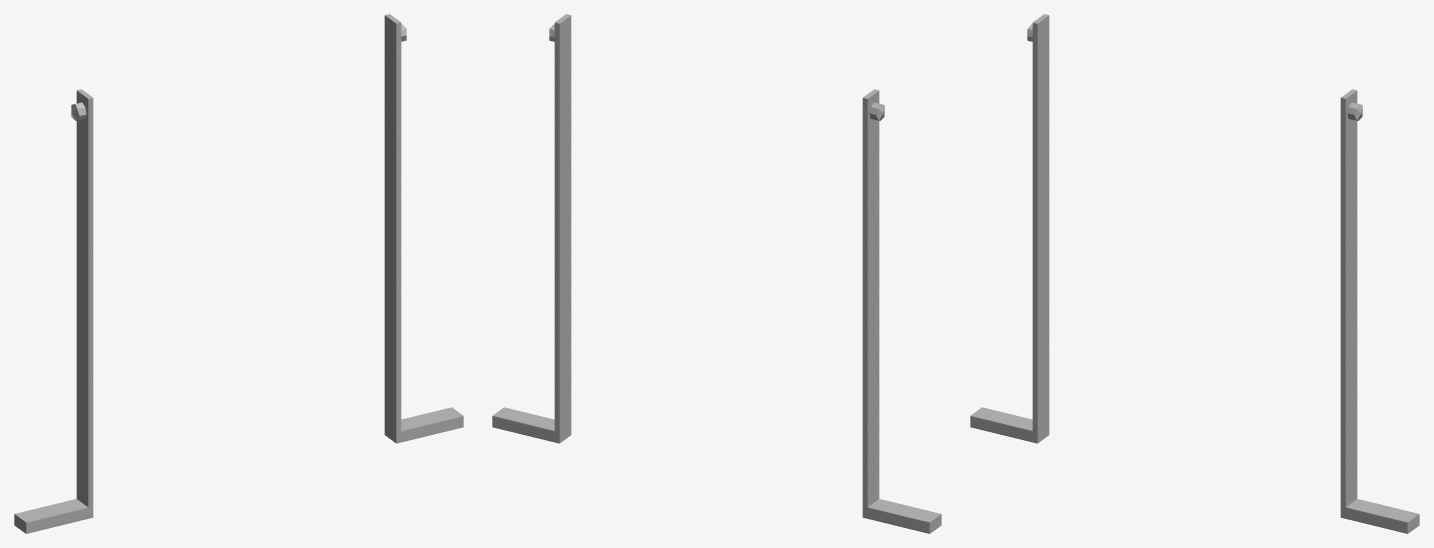
File: VentLegs.fbx
The picture shows the model from 3 angles, left to right: view 1: azimuth 30°, elevation 25°; view 2: azimuth 150°, elevation 25°; view 3: azimuth 330°, elevation 25°; orthographic projection.
Parts seen in each view (by area): view 1: Cube.050; view 2: Cube.050; view 3: Cube.050.
Part boxes in pixels (bbox=[...]): Cube.050: bbox=[14, 14, 463, 533]; Cube.050: bbox=[492, 14, 941, 533]; Cube.050: bbox=[970, 14, 1419, 533].
Bounding box in the file's own units: 651 × 597 × 30.27.
1 material, 1 textured.
